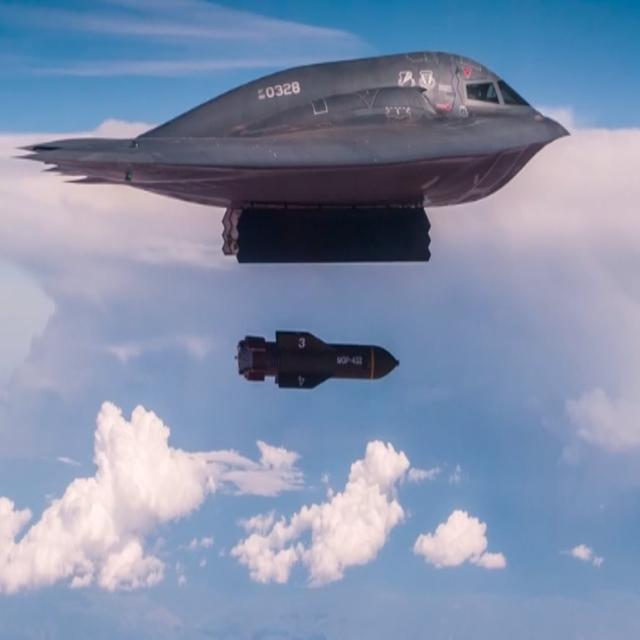MIL_Plane: (7, 122, 570, 193)
